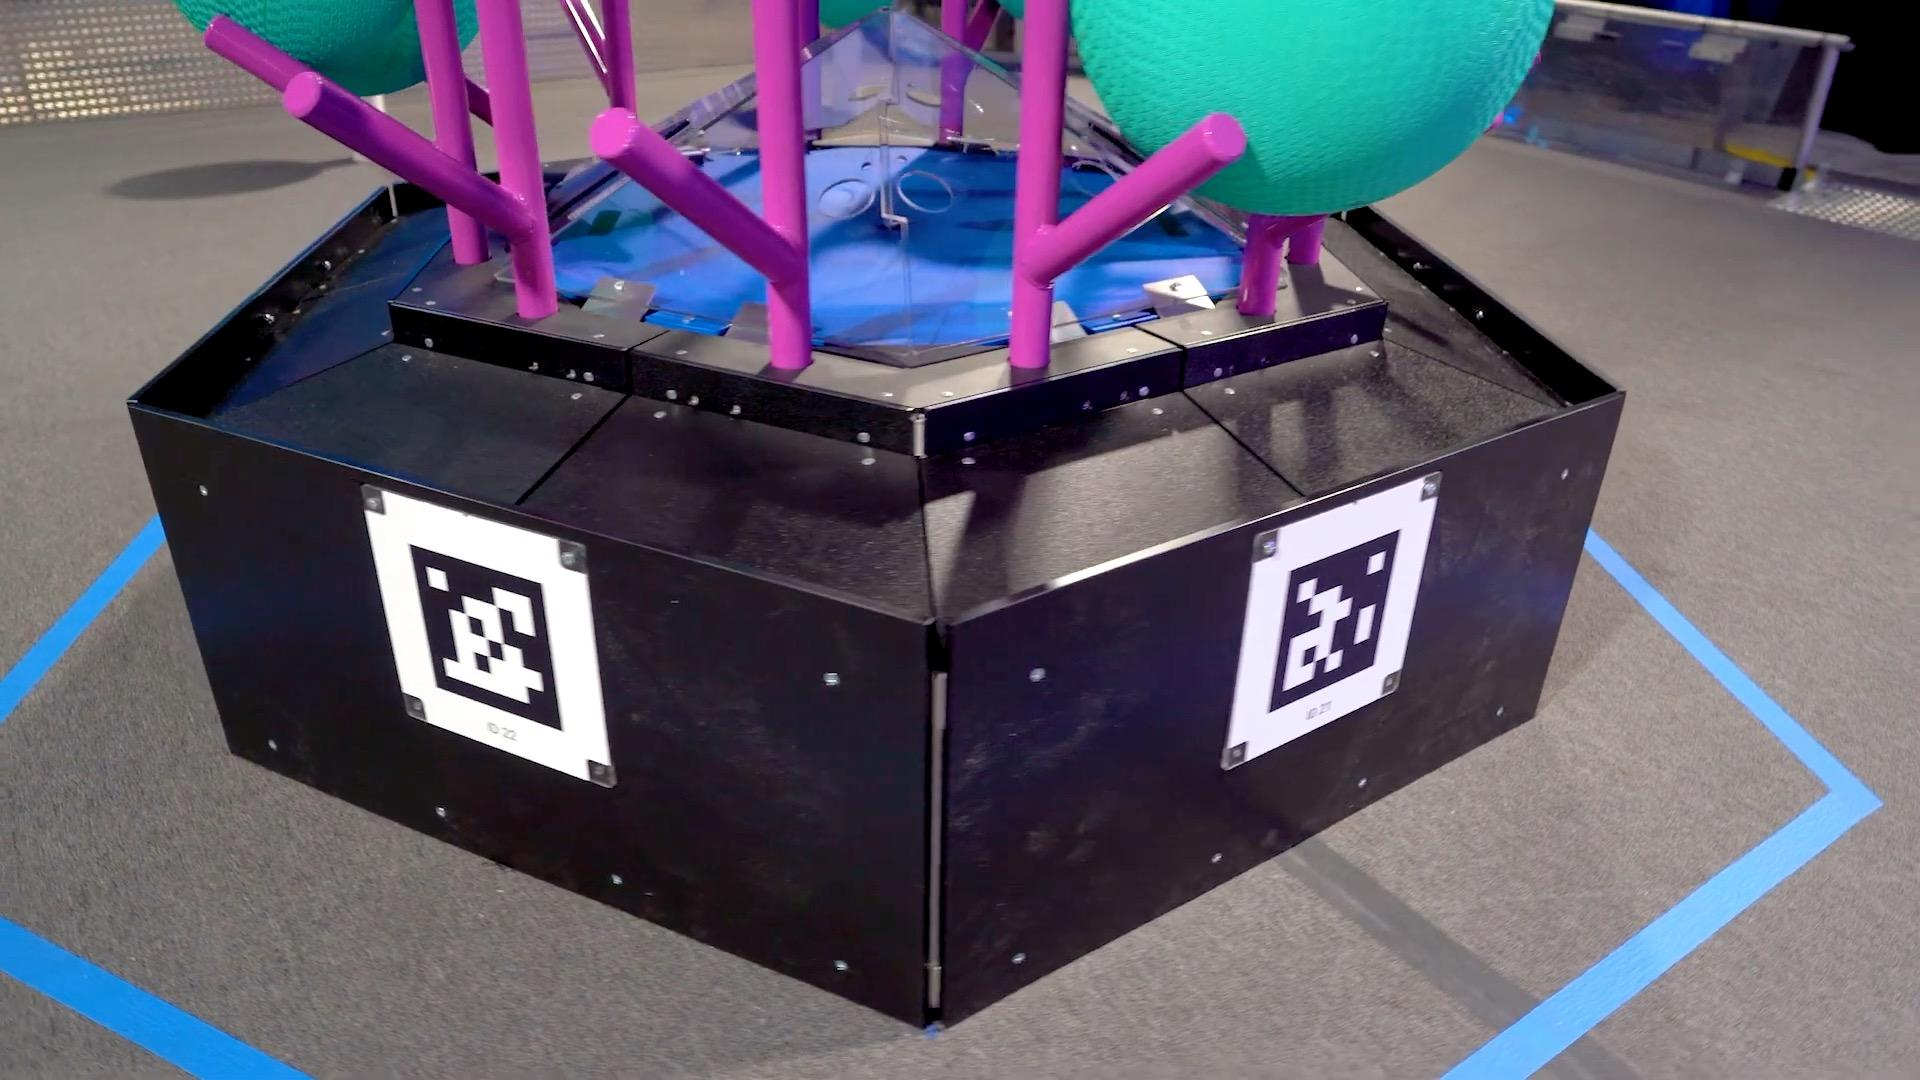ALGAE: (1065, 0, 1556, 219), (171, 0, 481, 98)
